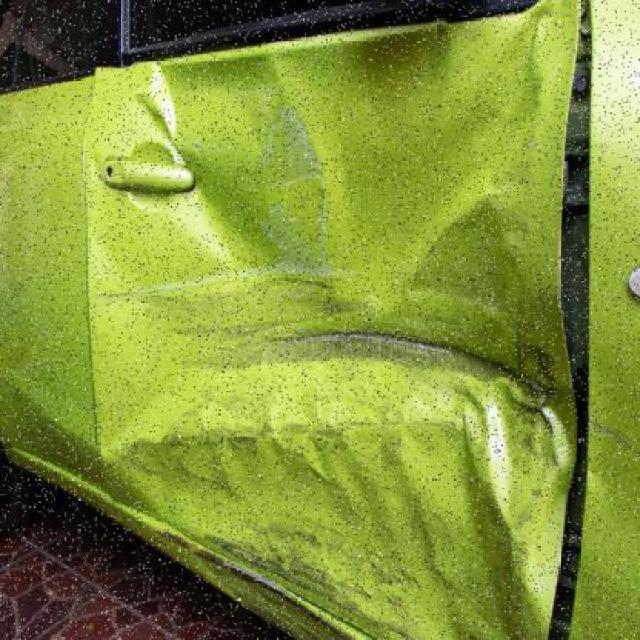doorouter-dent: (93, 20, 602, 630)
